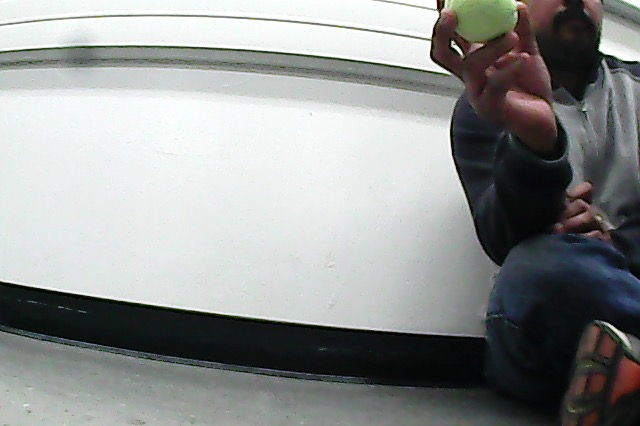ball: (443, 3, 520, 45)
